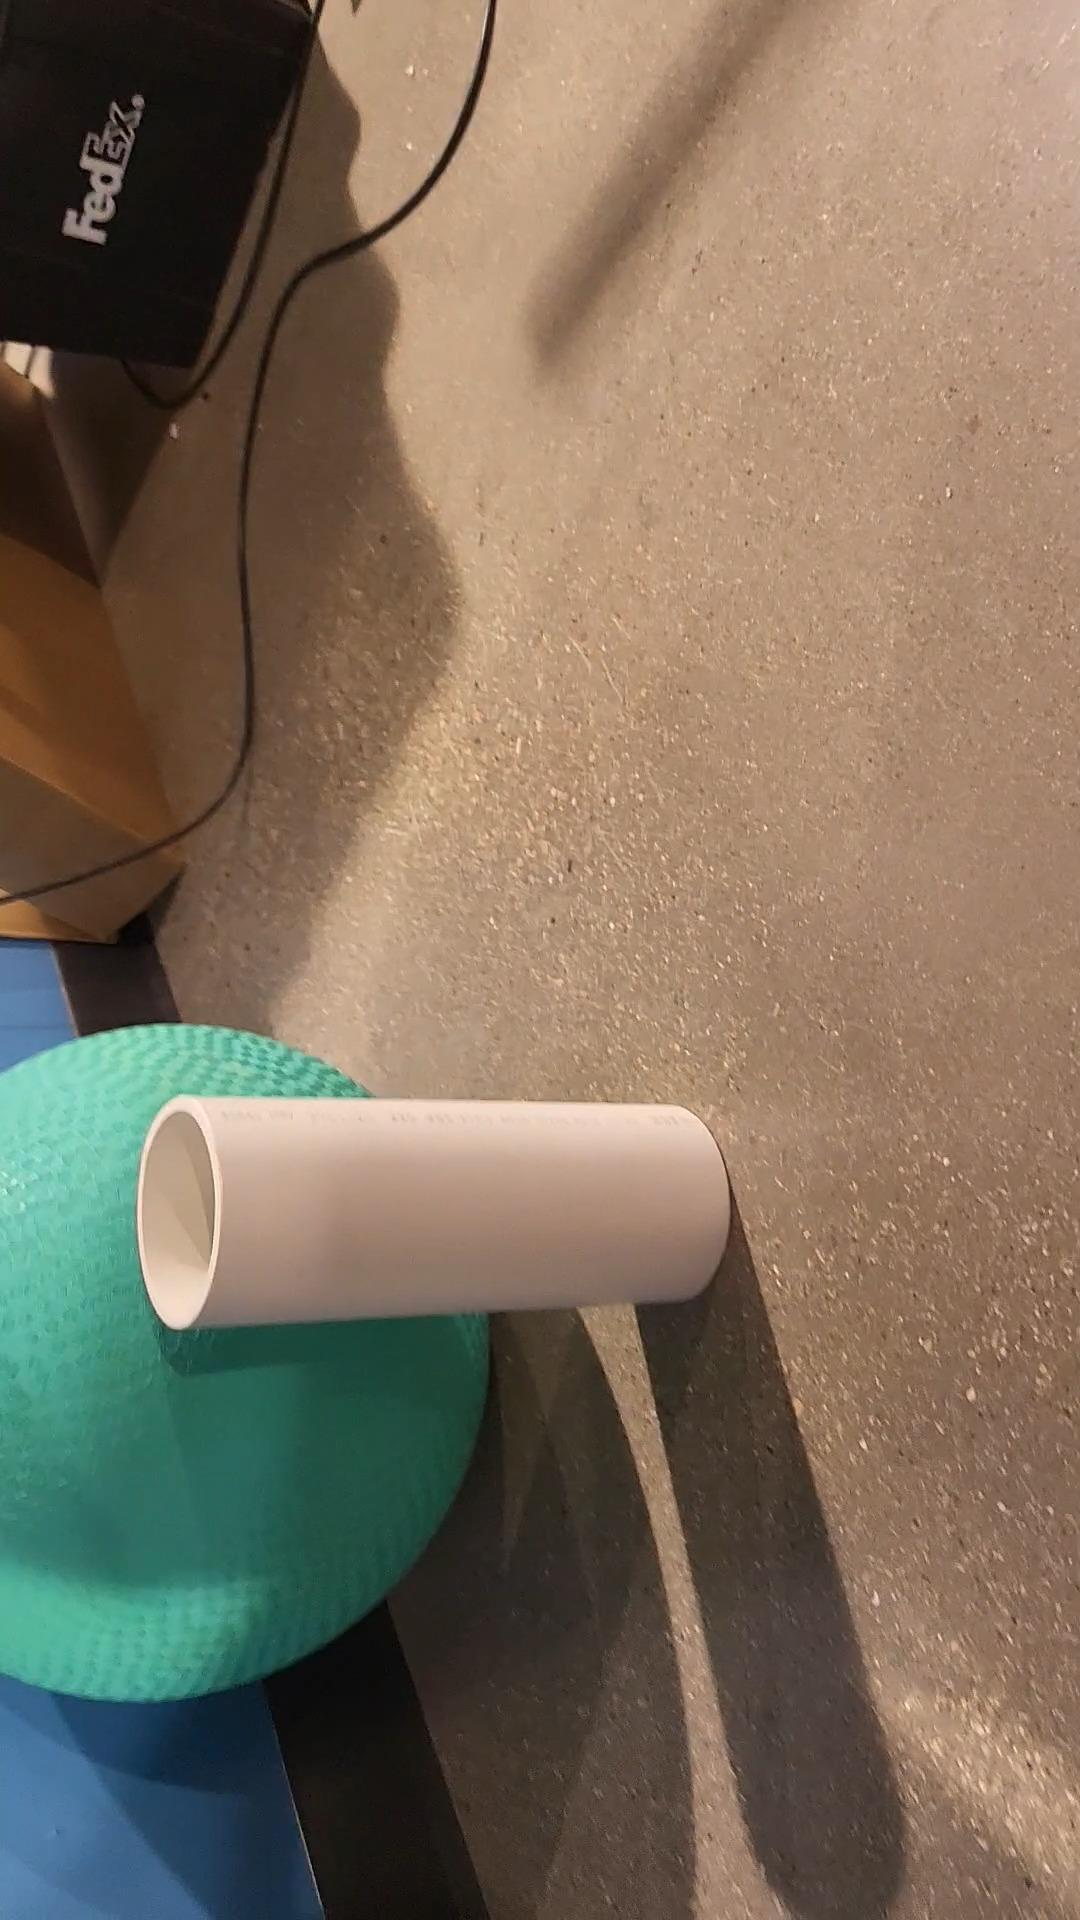algae: (0, 1025, 472, 1702)
coral: (142, 1100, 731, 1323)
